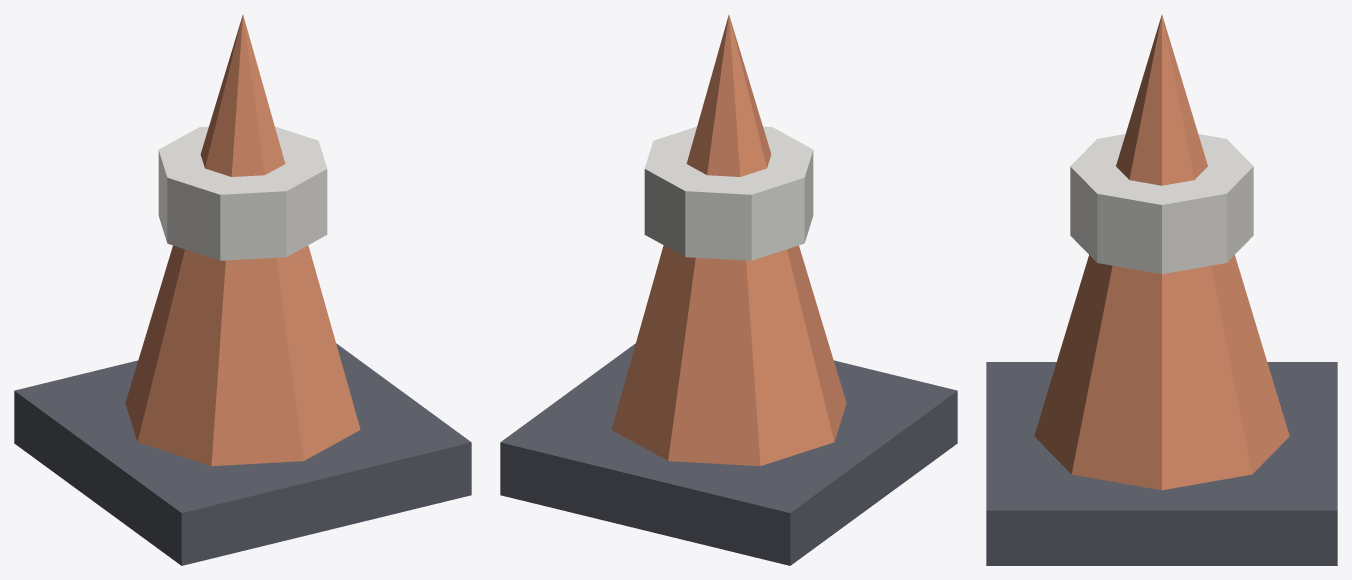
The picture shows the model from 3 angles, left to right: view 1: azimuth 30°, elevation 25°; view 2: azimuth 150°, elevation 25°; view 3: azimuth 270°, elevation 25°; orthographic projection. The views are drawn at different scales.
Visible parts, largest first — view 1: Cone, Base, Band; view 2: Cone, Base, Band; view 3: Cone, Base, Band.
Boxes of the visible parts, box(x1,y1,x2,y2) form: Cone: box(125, 15, 360, 466); Base: box(14, 343, 471, 565); Band: box(158, 126, 327, 260); Cone: box(611, 15, 846, 466); Base: box(500, 343, 957, 565); Band: box(644, 126, 813, 260); Cone: box(1034, 15, 1289, 490); Base: box(986, 362, 1337, 565); Band: box(1070, 134, 1253, 274).
Bounding box in the file's own units: 0.46 × 0.69 × 0.46.
